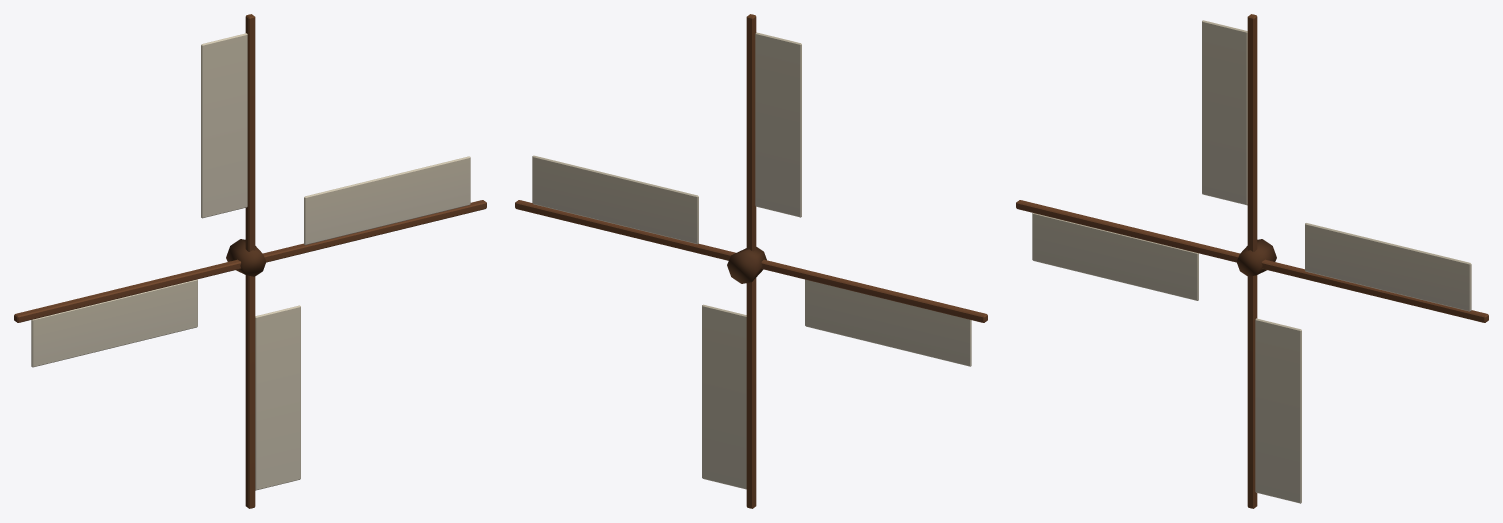
File: windmill_blades.glb
The picture shows the model from 3 angles, left to right: view 1: azimuth 30°, elevation 25°; view 2: azimuth 150°, elevation 25°; view 3: azimuth 330°, elevation 25°; orthographic projection.
Visible parts, largest first — view 1: windmill_blades; view 2: windmill_blades; view 3: windmill_blades.
Boxes of the visible parts, bbox=[...] form: windmill_blades: bbox=[14, 14, 486, 508]; windmill_blades: bbox=[515, 14, 987, 508]; windmill_blades: bbox=[1016, 14, 1488, 508].
Bounding box in the file's own units: 9.6 × 9.6 × 0.5.
